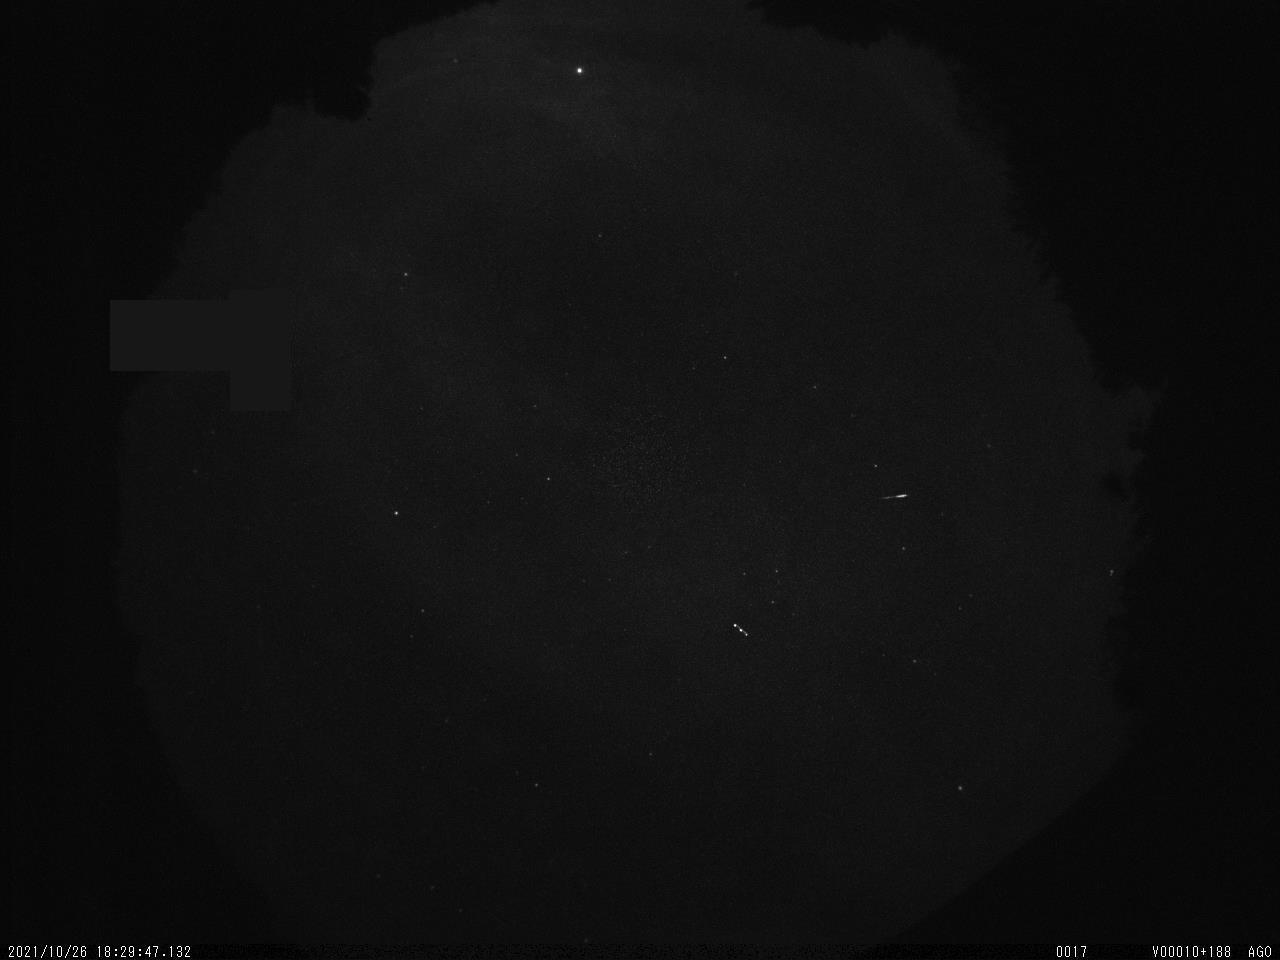meteor: (876, 488, 917, 505)
satelite: (727, 616, 757, 645)
